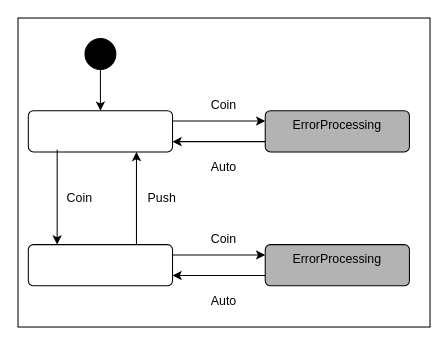
The diagram is 448 pixels wide and 345 high, and some of its shapes have lost their labels. Here are the shapes that lost their labels. From the top down, the box of each, then its label:
(27, 110, 173, 152): Locked
(27, 244, 173, 286): Unlocked
